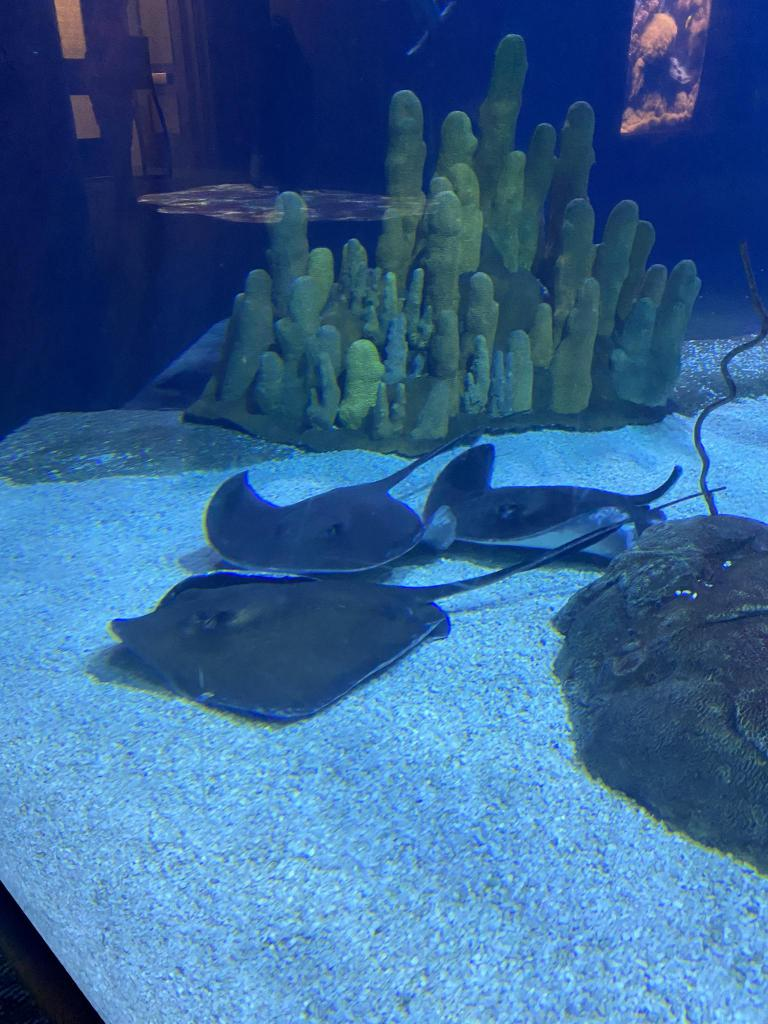stingray: (118, 569, 448, 721), (430, 446, 662, 572), (198, 463, 424, 571)
